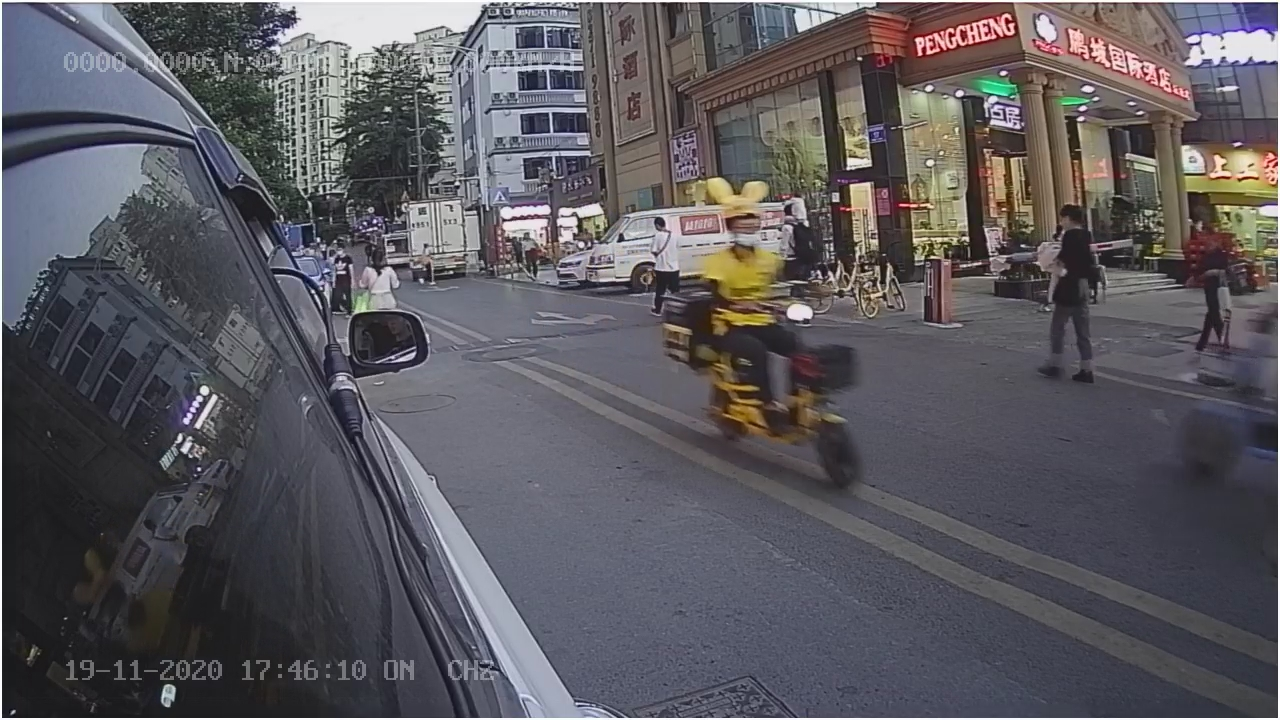person: (1040, 197, 1114, 394)
